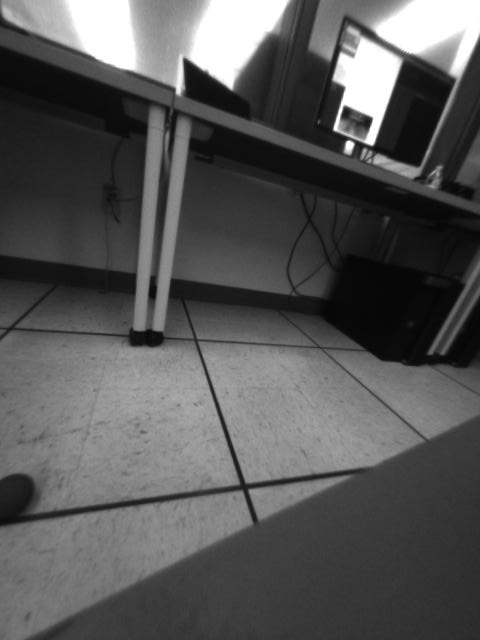dogtoy: (1, 464, 46, 529)
